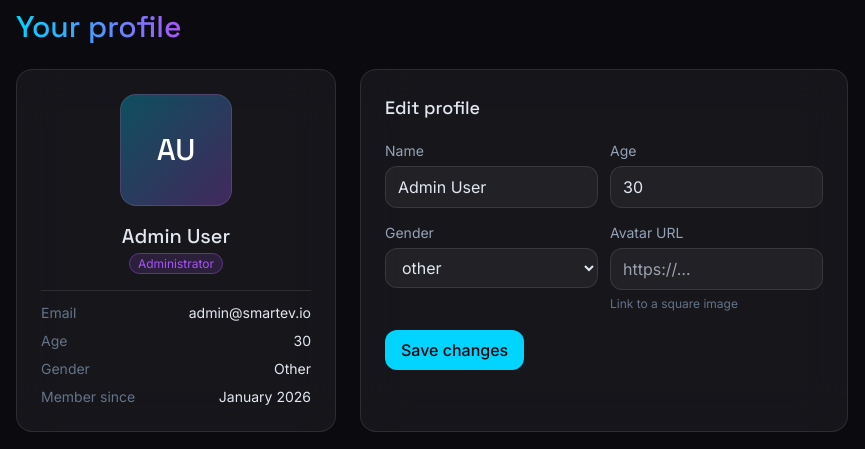
Test case: Profile page › saves edited fields to /users/me and confirms
Replace the text in the field labelled "Name" with "Ada L.": (492, 187) [385,166,598,208]
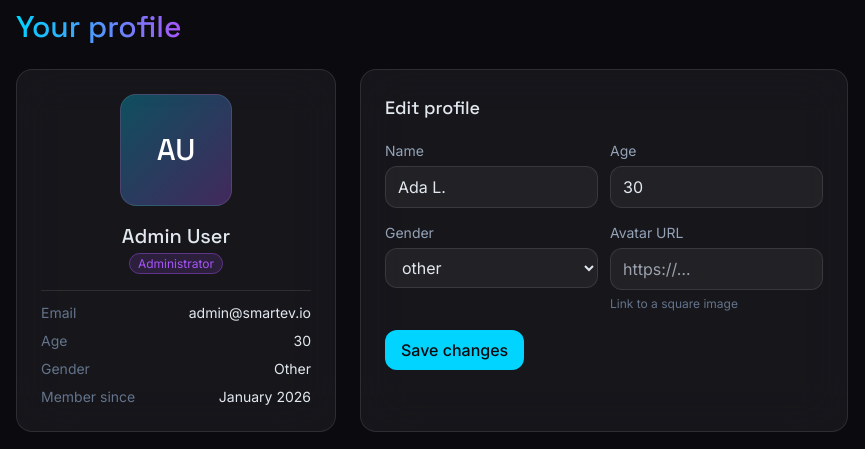
Replace the text in the number field labelled "Age" with "41": (716, 187) [610,166,823,208]
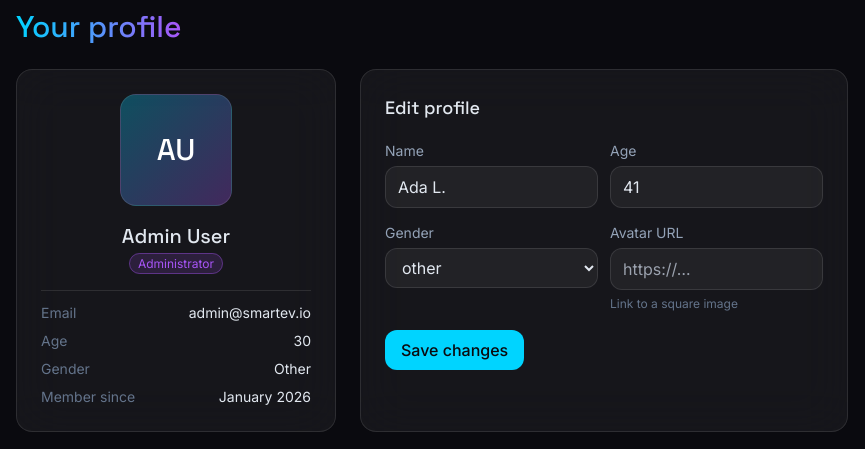
Select "Female" in the dropdown labelled "Gender": (492, 268) [385,248,598,288]
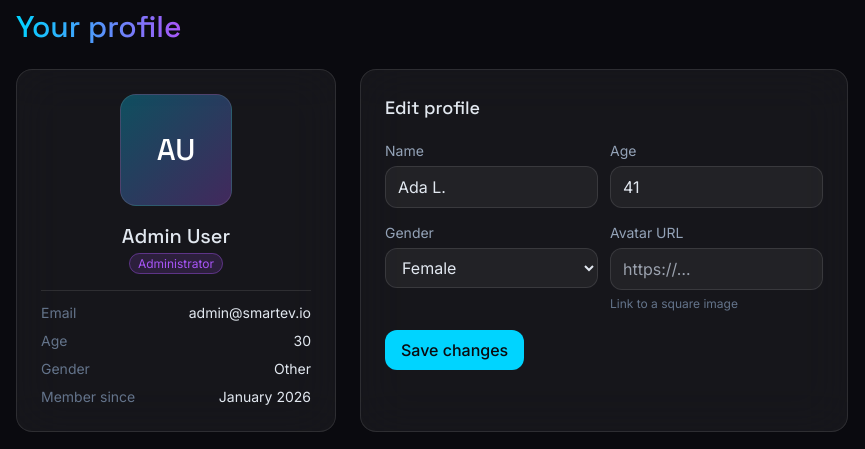
Click the button "Save changes": (455, 350) [385,330,524,370]
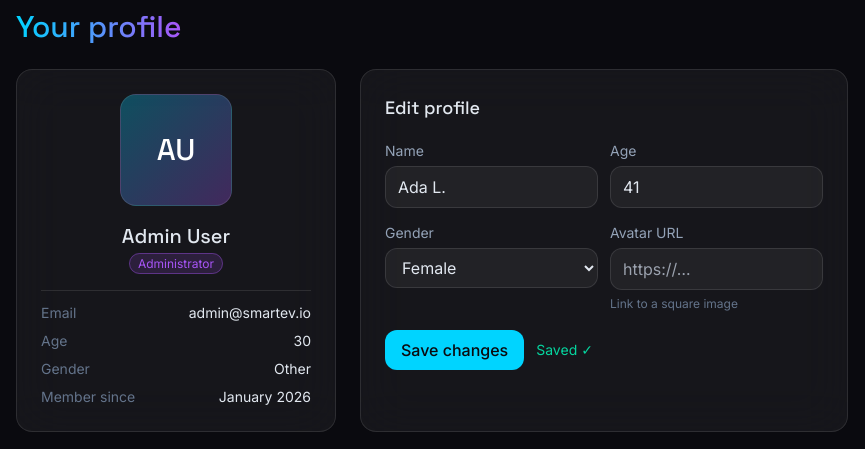
expect the text "Saved ✓" is shown: met, box [536,340,593,360]
